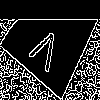V: (24, 25, 63, 81)
